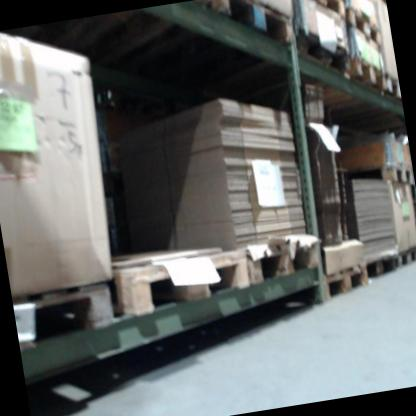pallet: (105, 232, 255, 319), (12, 279, 121, 353), (239, 227, 322, 287), (216, 0, 297, 56), (297, 25, 355, 93), (335, 155, 412, 193), (346, 43, 389, 102), (320, 259, 371, 305), (344, 0, 380, 50), (360, 248, 400, 288), (297, 0, 350, 29), (382, 67, 401, 102), (396, 243, 416, 271)
